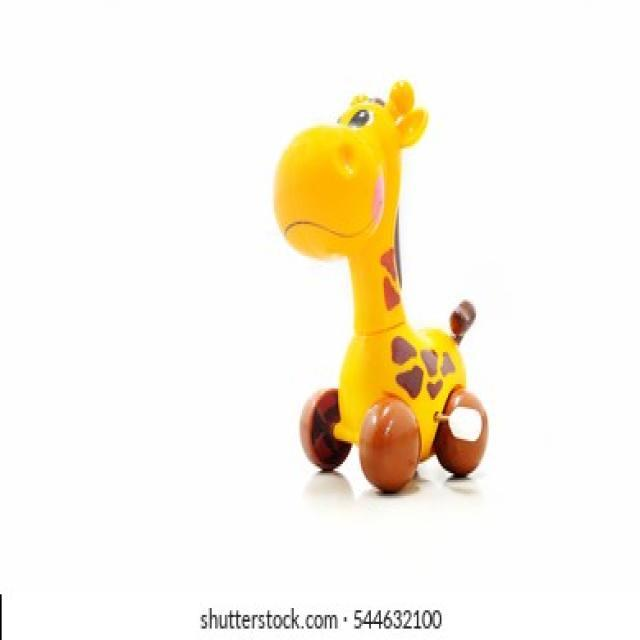hard-toy: (275, 83, 490, 493)
